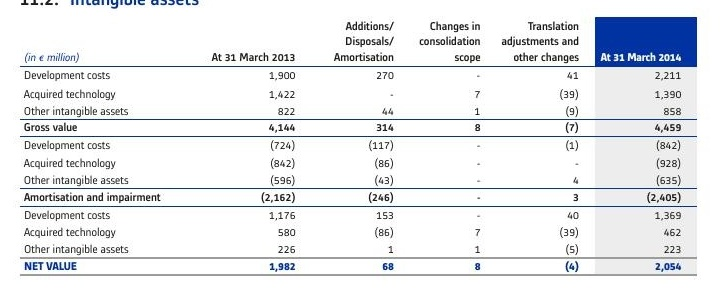table: (0, 0, 721, 290)
